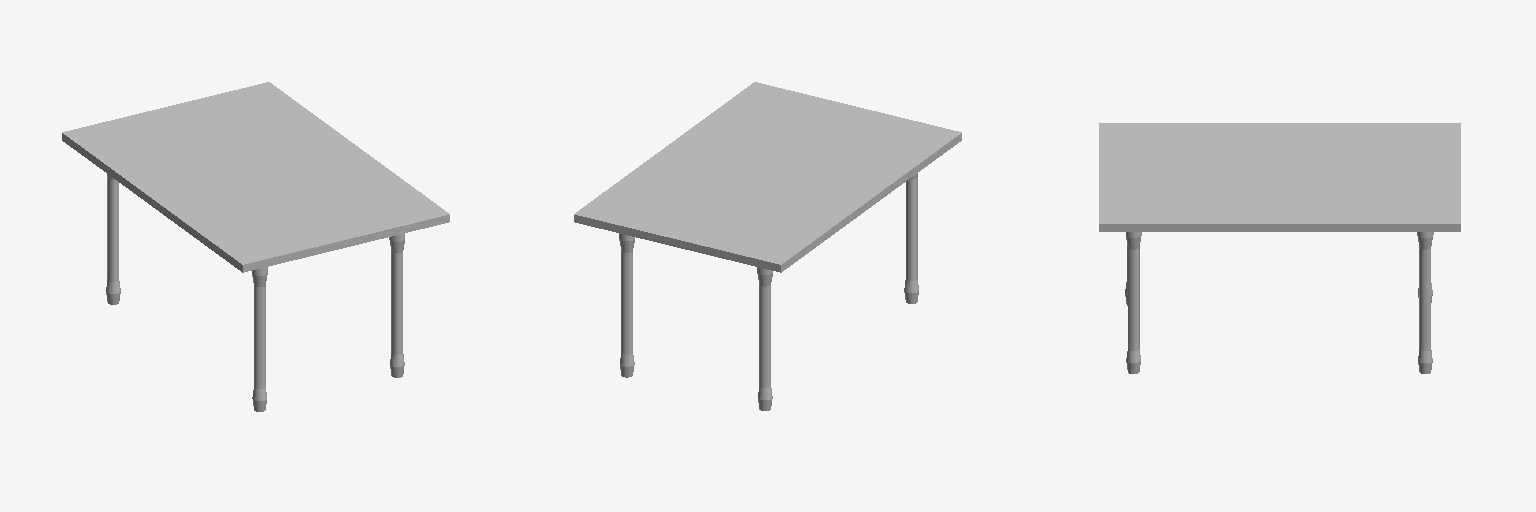
File: table.obj
The picture shows the model from 3 angles: view 1: azimuth 30°, elevation 25°; view 2: azimuth 150°, elevation 25°; view 3: azimuth 270°, elevation 25°; orthographic projection.
Visible parts, largest first — view 1: Cube, Cylinder.003, Cylinder.001, Cylinder.002; view 2: Cube, Cylinder, Cylinder.002, Cylinder.003; view 3: Cube, Cylinder, Cylinder.001.
Part boxes in pixels (x1,y1,x2,y2): Cube: (62, 82, 449, 272); Cylinder.003: (252, 267, 267, 411); Cylinder.001: (389, 233, 404, 377); Cylinder.002: (106, 174, 120, 304); Cube: (574, 82, 961, 272); Cylinder: (619, 233, 634, 377); Cylinder.002: (757, 267, 772, 410); Cylinder.003: (904, 173, 918, 303); Cube: (1099, 123, 1460, 231); Cylinder: (1417, 232, 1433, 373); Cylinder.001: (1126, 232, 1141, 373).
Bounding box in the file's own units: 596 × 454 × 901.